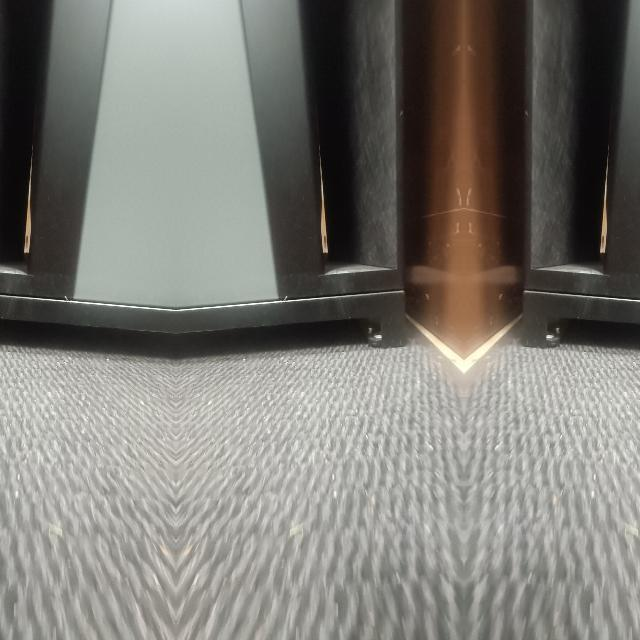obstacle: (177, 66, 411, 348), (0, 66, 173, 347), (516, 66, 640, 347)
